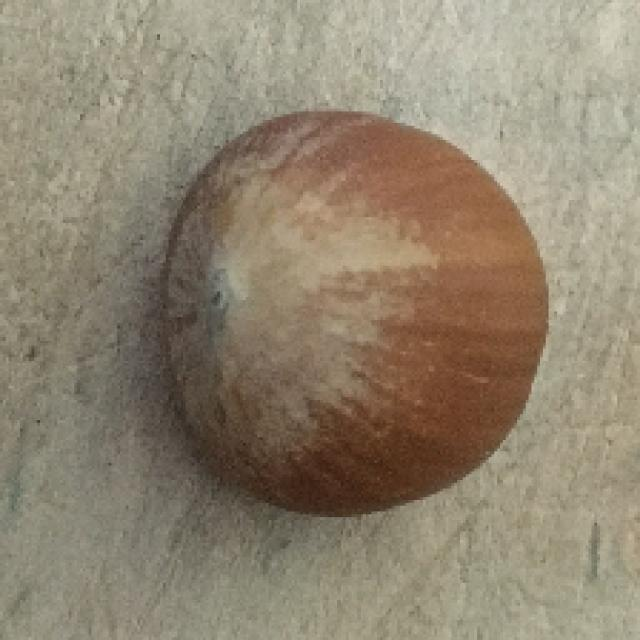qualityHazelnut: (156, 102, 549, 522)
